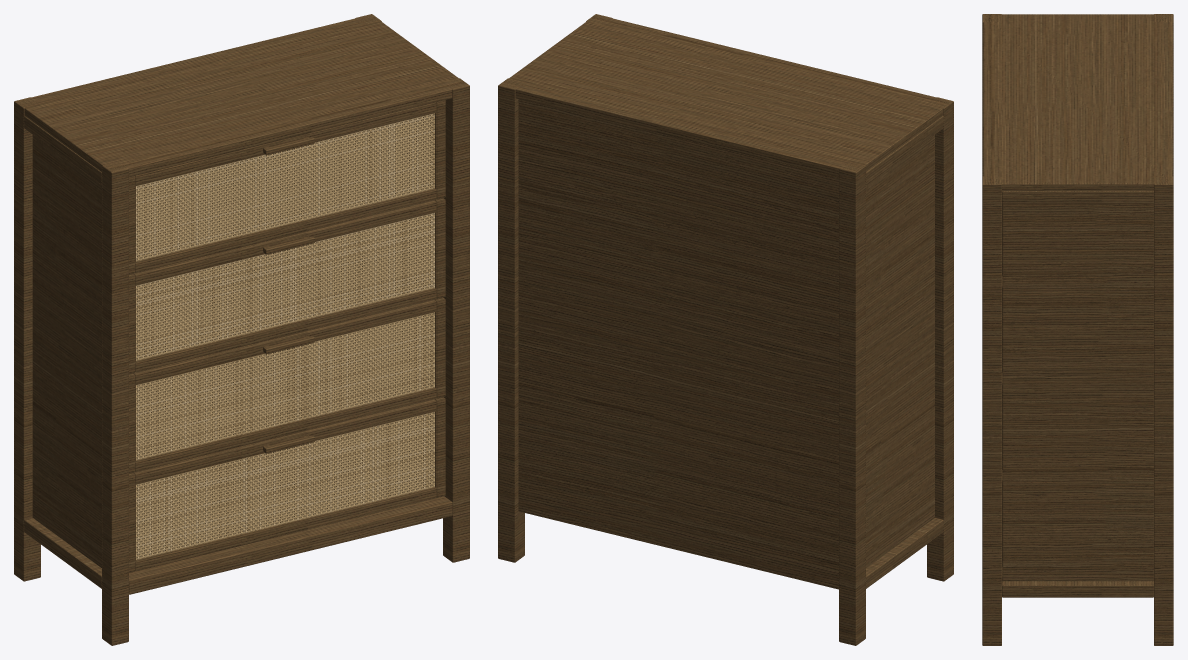
The picture shows the model from 3 angles, left to right: view 1: azimuth 30°, elevation 25°; view 2: azimuth 150°, elevation 25°; view 3: azimuth 270°, elevation 25°; orthographic projection. The views are drawn at different scales.
Visible parts, largest first — view 1: NEW HOI AN LV453.B51 | king-4 web batch, Tallboy drawer 1 sliding pivot web batch, Tallboy drawer 2 sliding pivot web batch, Tallboy drawer 3 sliding pivot web batch, Tallboy drawer 4 sliding pivot web batch; view 2: NEW HOI AN LV453.B51 | king-4 web batch; view 3: NEW HOI AN LV453.B51 | king-4 web batch.
Boxes of the visible parts, left/top/right/bottom form: NEW HOI AN LV453.B51 | king-4 web batch: left=14, top=14, right=469, bottom=645; Tallboy drawer 1 sliding pivot web batch: left=129, top=397, right=445, bottom=572; Tallboy drawer 2 sliding pivot web batch: left=129, top=297, right=445, bottom=473; Tallboy drawer 3 sliding pivot web batch: left=129, top=198, right=445, bottom=373; Tallboy drawer 4 sliding pivot web batch: left=129, top=100, right=445, bottom=274; NEW HOI AN LV453.B51 | king-4 web batch: left=498, top=14, right=953, bottom=645; NEW HOI AN LV453.B51 | king-4 web batch: left=982, top=14, right=1173, bottom=645.
Size of the model in its own units: 0.95 by 1.2 by 0.45.
Materials: 5 (2 with a texture image).
